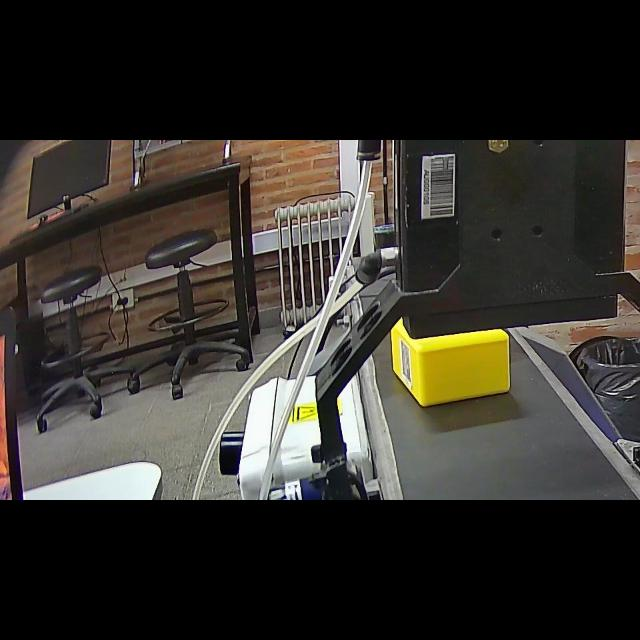yellowBox: (386, 309, 518, 413)
